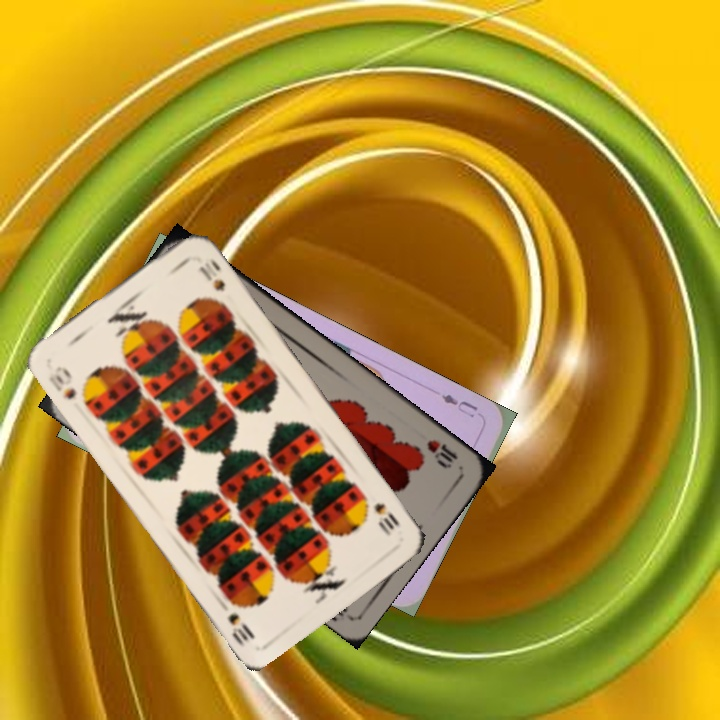EU: (437, 390, 480, 421)
H10: (422, 435, 460, 471)
S10: (44, 361, 79, 402), (370, 498, 402, 538)
